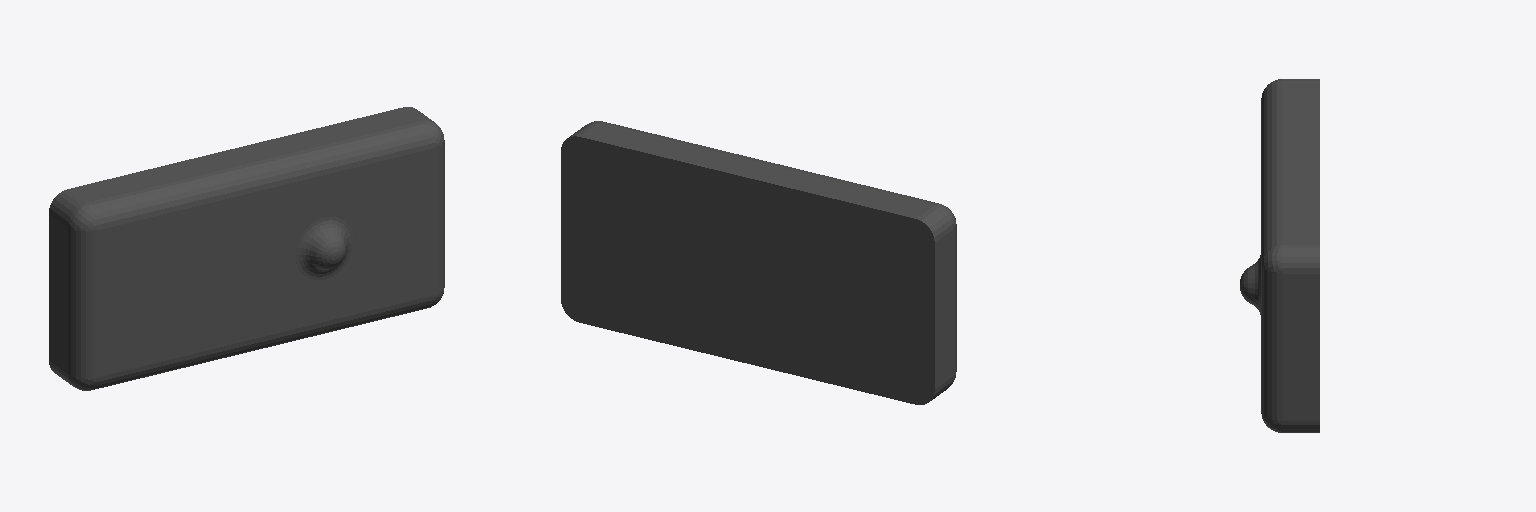
The model's file is SpotPackCollision.obj.
3 views of the same model, side by side, from view 1: azimuth 30°, elevation 25°; view 2: azimuth 150°, elevation 25°; view 3: azimuth 270°, elevation 25° (orthographic).
Parts seen in each view (by area): view 1: Body1; view 2: Body1; view 3: Body1.
Boxes of the visible parts, x1=… form: Body1: x1=49, y1=107, x2=444, y2=390; Body1: x1=561, y1=121, x2=956, y2=404; Body1: x1=1240, y1=79, x2=1319, y2=432.
Bounding box in the file's own units: 40 × 19 × 7.5.